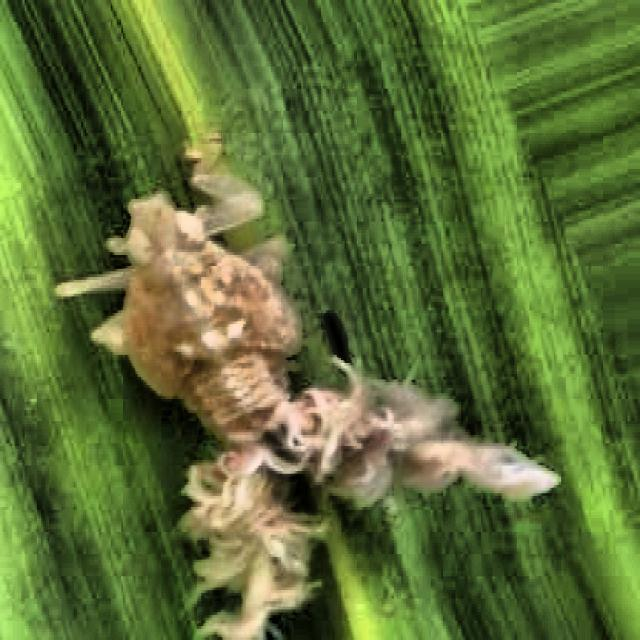Pyrilla-perpusilla: (59, 72, 600, 640)
